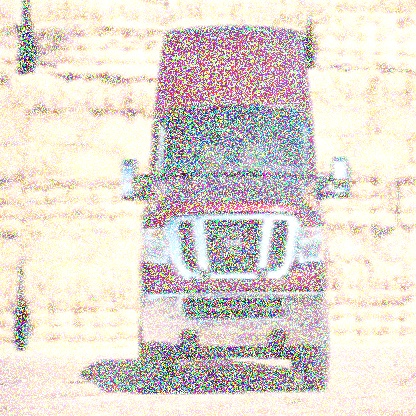Vehicle: (120, 24, 352, 398)
